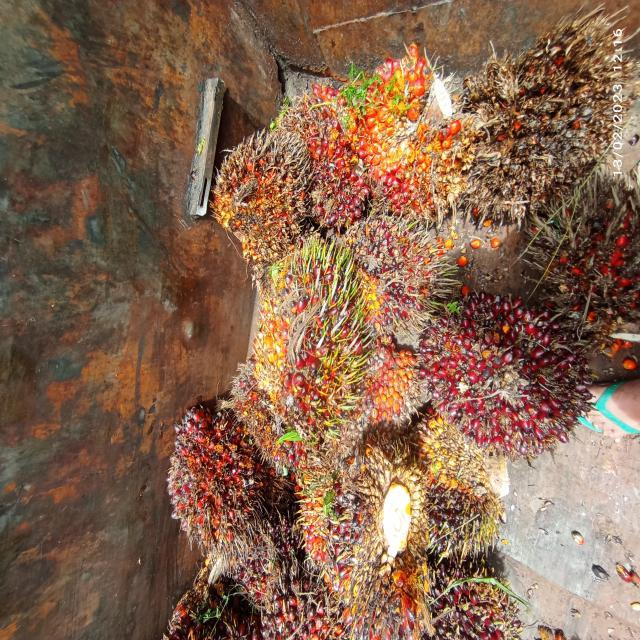fraksi 00: (404, 398, 513, 560)
fraksi 1: (240, 240, 389, 452), (342, 193, 434, 331)
fraksi 3: (425, 267, 587, 498), (349, 36, 476, 246), (271, 67, 381, 235), (375, 347, 416, 431)
fraksi 4: (460, 18, 628, 214), (525, 151, 640, 389), (155, 380, 284, 560), (206, 122, 312, 280)
